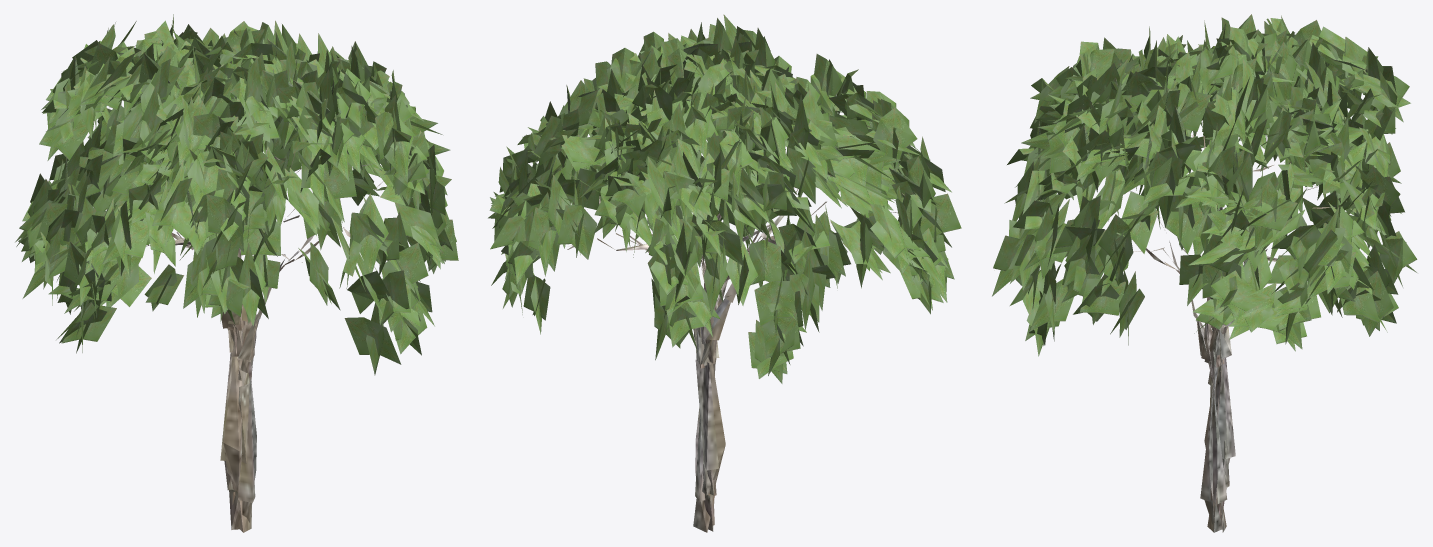
File: acacia_0.obj
3 renders of one model, left to right at view 1: azimuth 30°, elevation 25°; view 2: azimuth 150°, elevation 25°; view 3: azimuth 270°, elevation 25°, orthographic. The views are drawn at different scales.
Parts seen in each view (by area): view 1: acacia_lowres; view 2: acacia_lowres; view 3: acacia_lowres.
Part boxes in pixels (x1=…): acacia_lowres: x1=15, y1=14, x2=458, y2=532; acacia_lowres: x1=488, y1=14, x2=961, y2=532; acacia_lowres: x1=992, y1=14, x2=1417, y2=532.
Size of the model in its own units: 11.33 by 12.34 by 9.6.
Materials: 1 (1 with a texture image).
